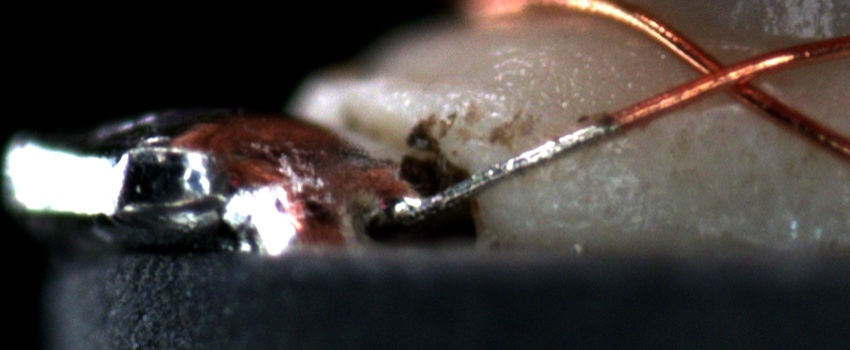CL: (673, 44, 778, 107)
TS: (396, 117, 615, 220)
